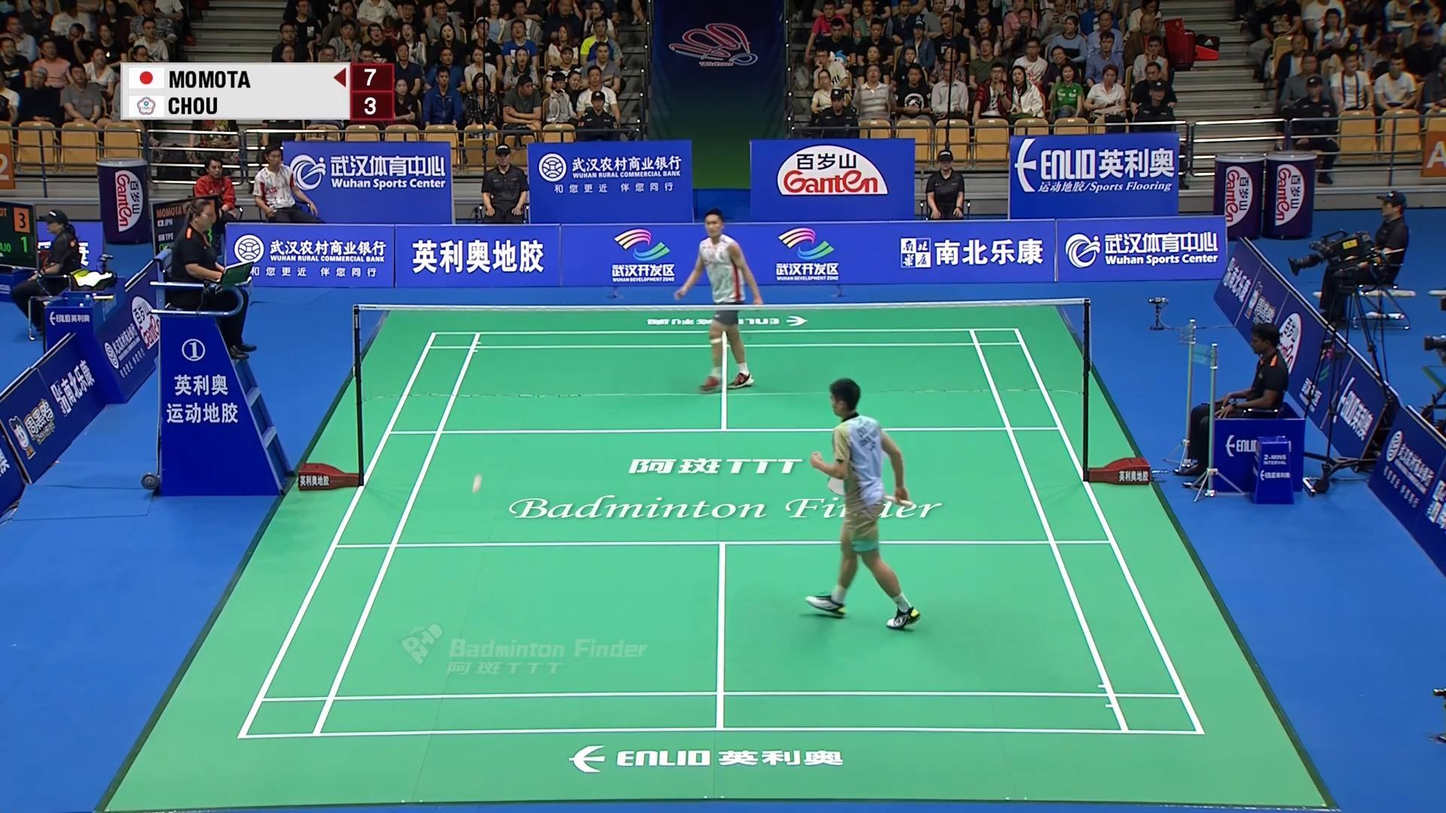shuttlecock: (471, 473, 483, 495)
